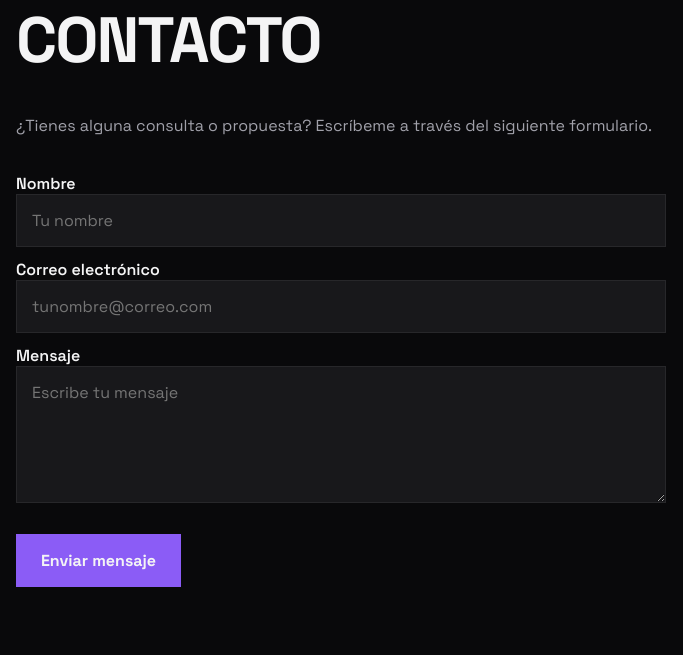
Componente Contacto › debe rechazar un correo electrónico inválido
Type "Ignacio Lobos" into the field labelled "Nombre".
click(341, 220); type("Ignacio Lobos")  # box [16,194,666,247]
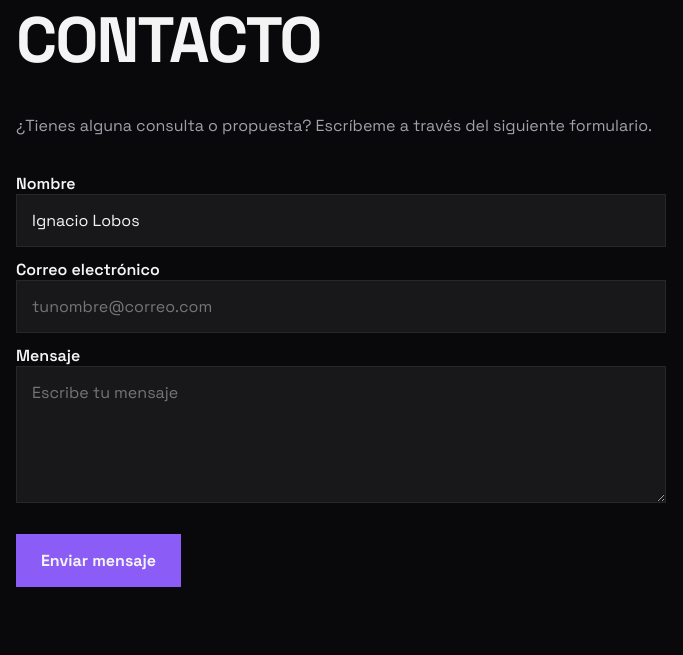
Type "correo-invalido" into the field labelled "Correo electrónico".
click(341, 306); type("correo-invalido")  # box [16,280,666,333]
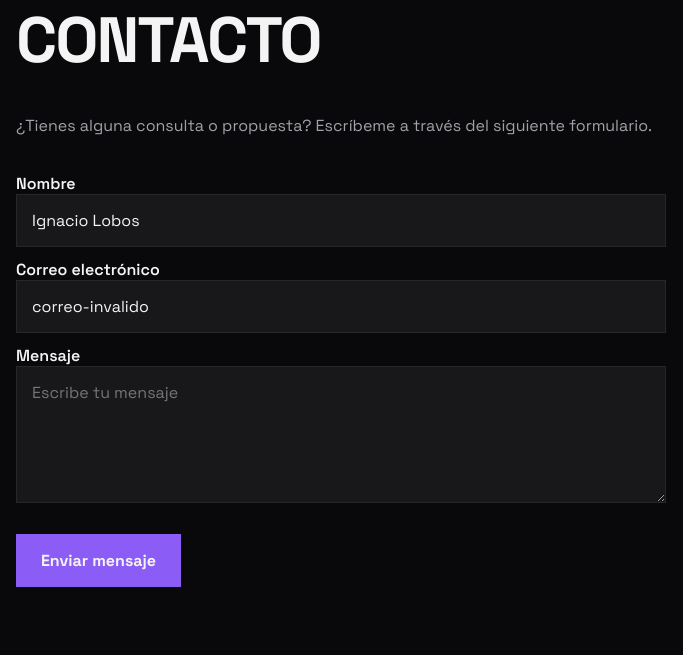
Type "Hola, este es un mensaje de prueba." into the text box labelled "Mensaje".
click(341, 434); type("Hola, este es un mensaje de prueba.")  # box [16,366,666,503]
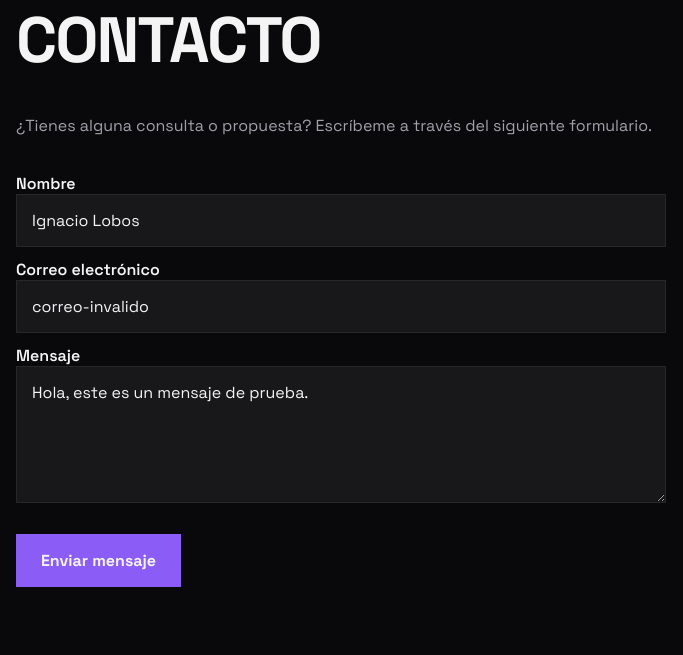
Submit the form labelled "Nombre"
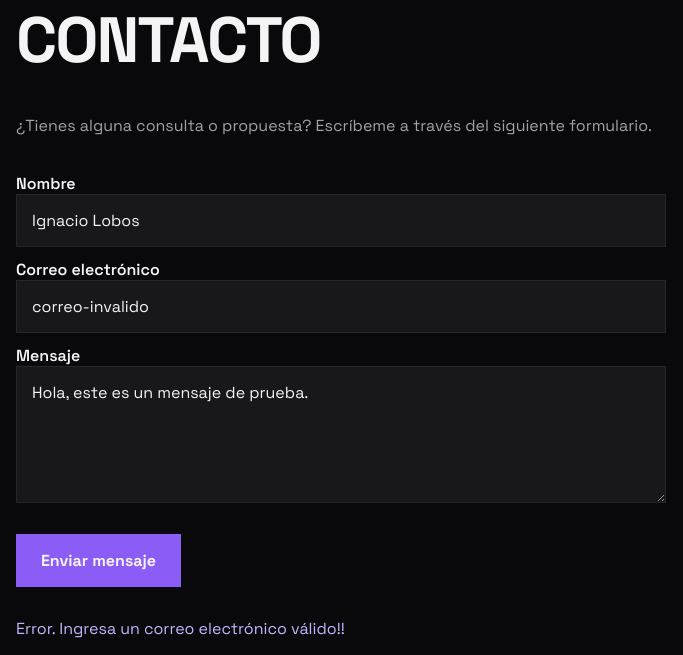
Check: the message reads "Error. Ingresa un correo electrónico válido!!", box [16,618,345,639]
